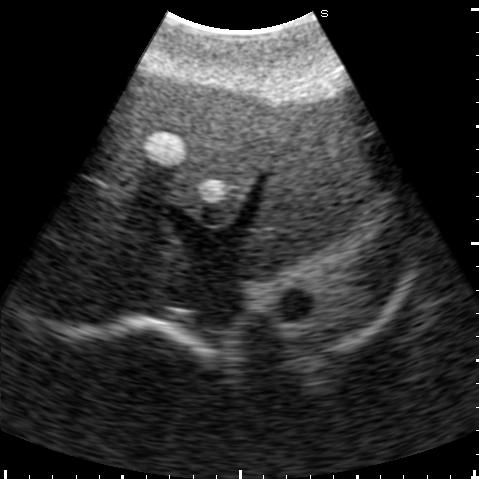S2: (239, 97, 381, 282)
S4: (91, 75, 278, 226)
S7: (36, 258, 141, 321)
S8: (59, 179, 184, 285)
Tumor: (142, 132, 186, 167), (198, 179, 225, 202)
